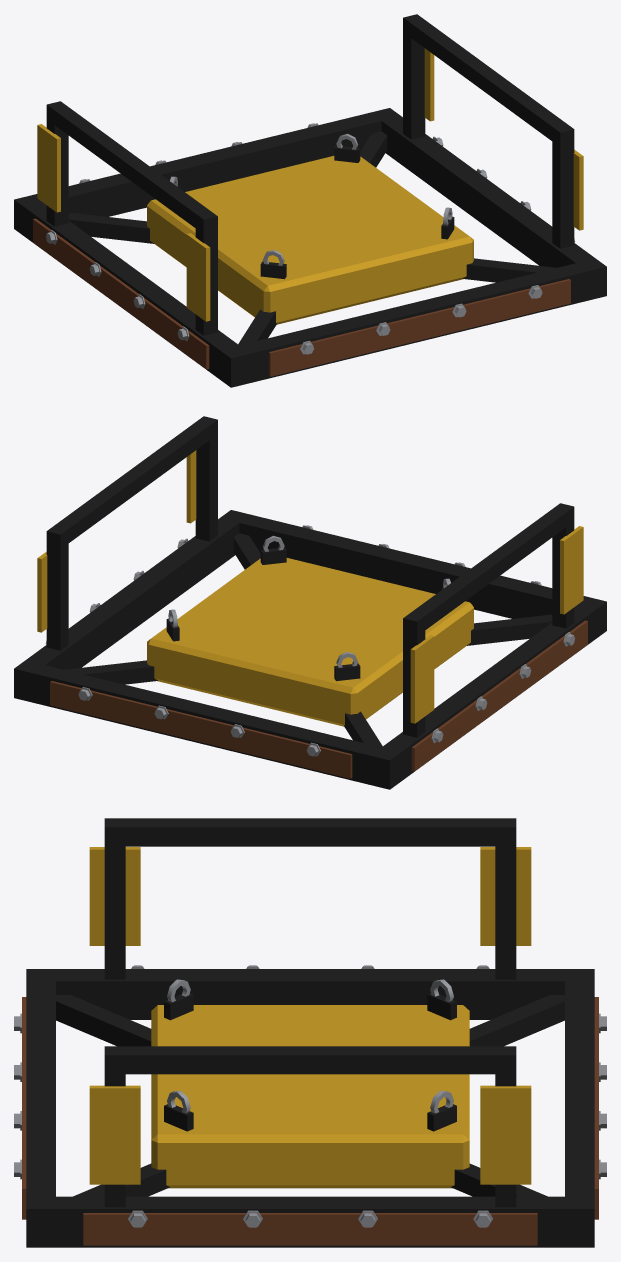
3 views of the same model, one above another, from view 1: azimuth 30°, elevation 25°; view 2: azimuth 150°, elevation 25°; view 3: azimuth 270°, elevation 25° (orthographic). The views are drawn at different scales.
Visible parts, largest first — view 1: dr5_base; view 2: dr5_base; view 3: dr5_base.
Boxes of the visible parts, x1=… form: dr5_base: x1=14, y1=14, x2=606, y2=387; dr5_base: x1=14, y1=416, x2=606, y2=789; dr5_base: x1=14, y1=818, x2=606, y2=1247.
Size of the model in its own units: 2.79 by 0.991 by 2.79.
